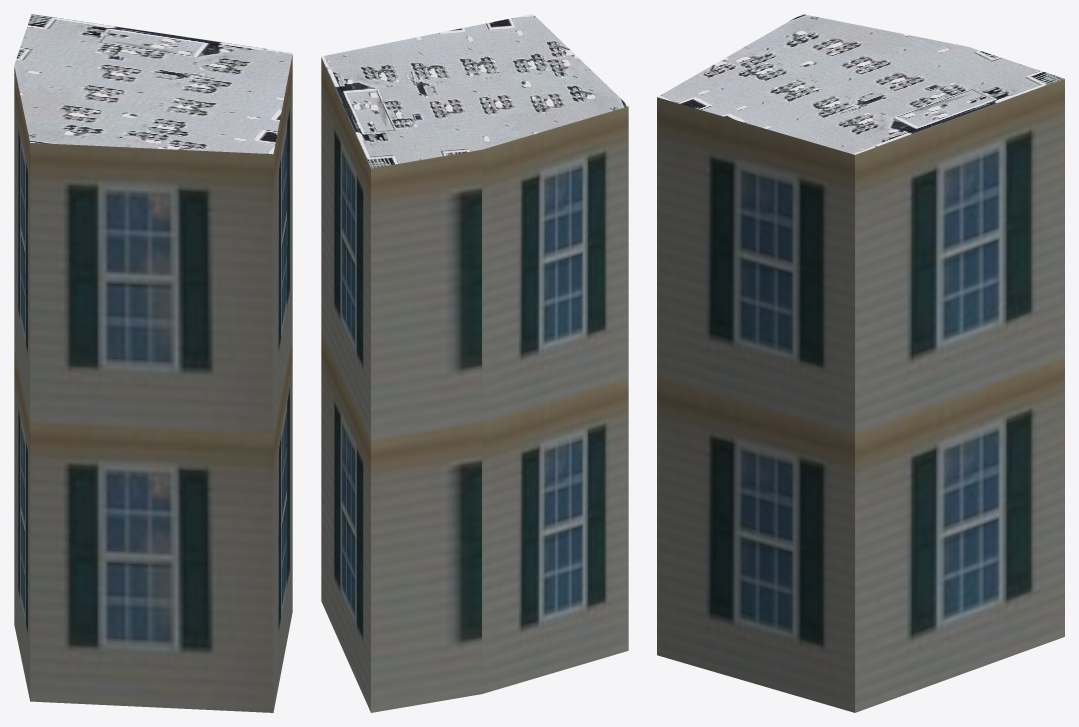
Rendered from ResTex__3843.fbx.
The picture shows the model from 3 angles, left to right: view 1: azimuth 30°, elevation 25°; view 2: azimuth 150°, elevation 25°; view 3: azimuth 270°, elevation 25°; orthographic projection. The views are drawn at different scales.
Parts seen in each view (by area): view 1: CityEngineMaterial_7_m, CityEngineMaterial_m; view 2: CityEngineMaterial_7_m, CityEngineMaterial_m; view 3: CityEngineMaterial_7_m, CityEngineMaterial_m.
Part boxes in pixels (x1,y1,x2,y2): CityEngineMaterial_7_m: (14, 54, 292, 712); CityEngineMaterial_m: (14, 14, 292, 154); CityEngineMaterial_7_m: (321, 57, 628, 712); CityEngineMaterial_m: (321, 14, 628, 168); CityEngineMaterial_7_m: (657, 79, 1064, 712); CityEngineMaterial_m: (657, 14, 1064, 154).
Bounding box in the file's own units: 3.25 × 6 × 3.97.
Materials: 2 (2 with a texture image).
